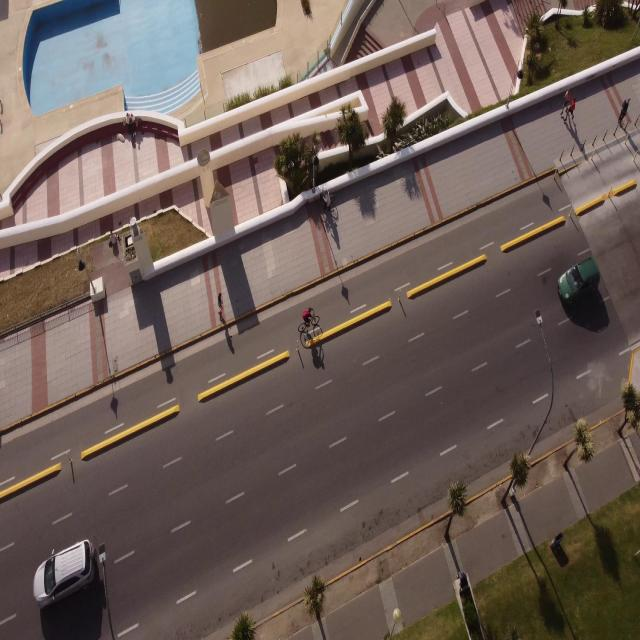Car: (23, 542, 113, 620), (549, 257, 609, 323)
Cycle: (288, 299, 333, 372)
